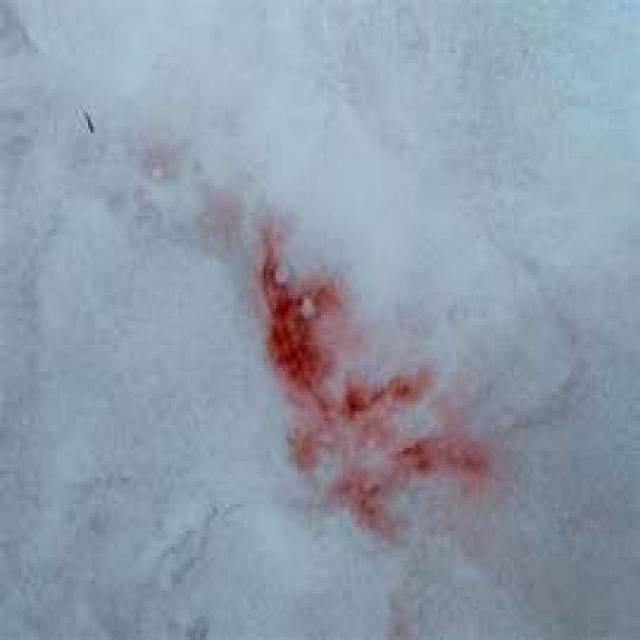wound: (232, 202, 502, 550)
